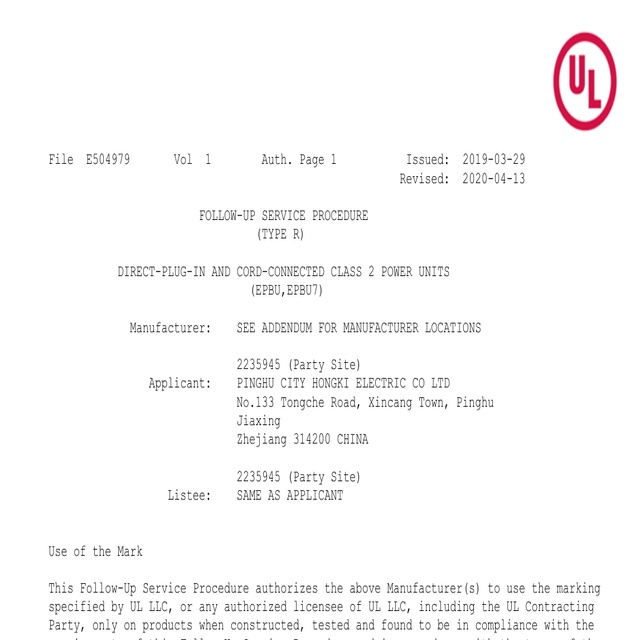ul: (552, 28, 617, 133)
